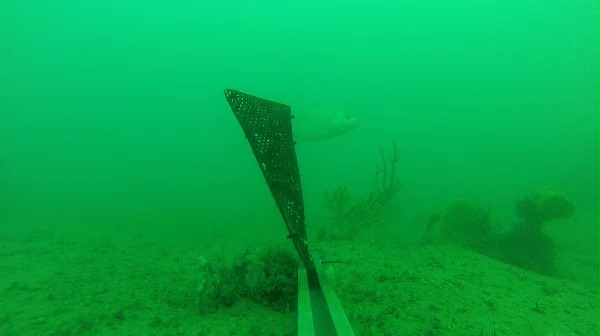fish: (293, 103, 364, 147)
